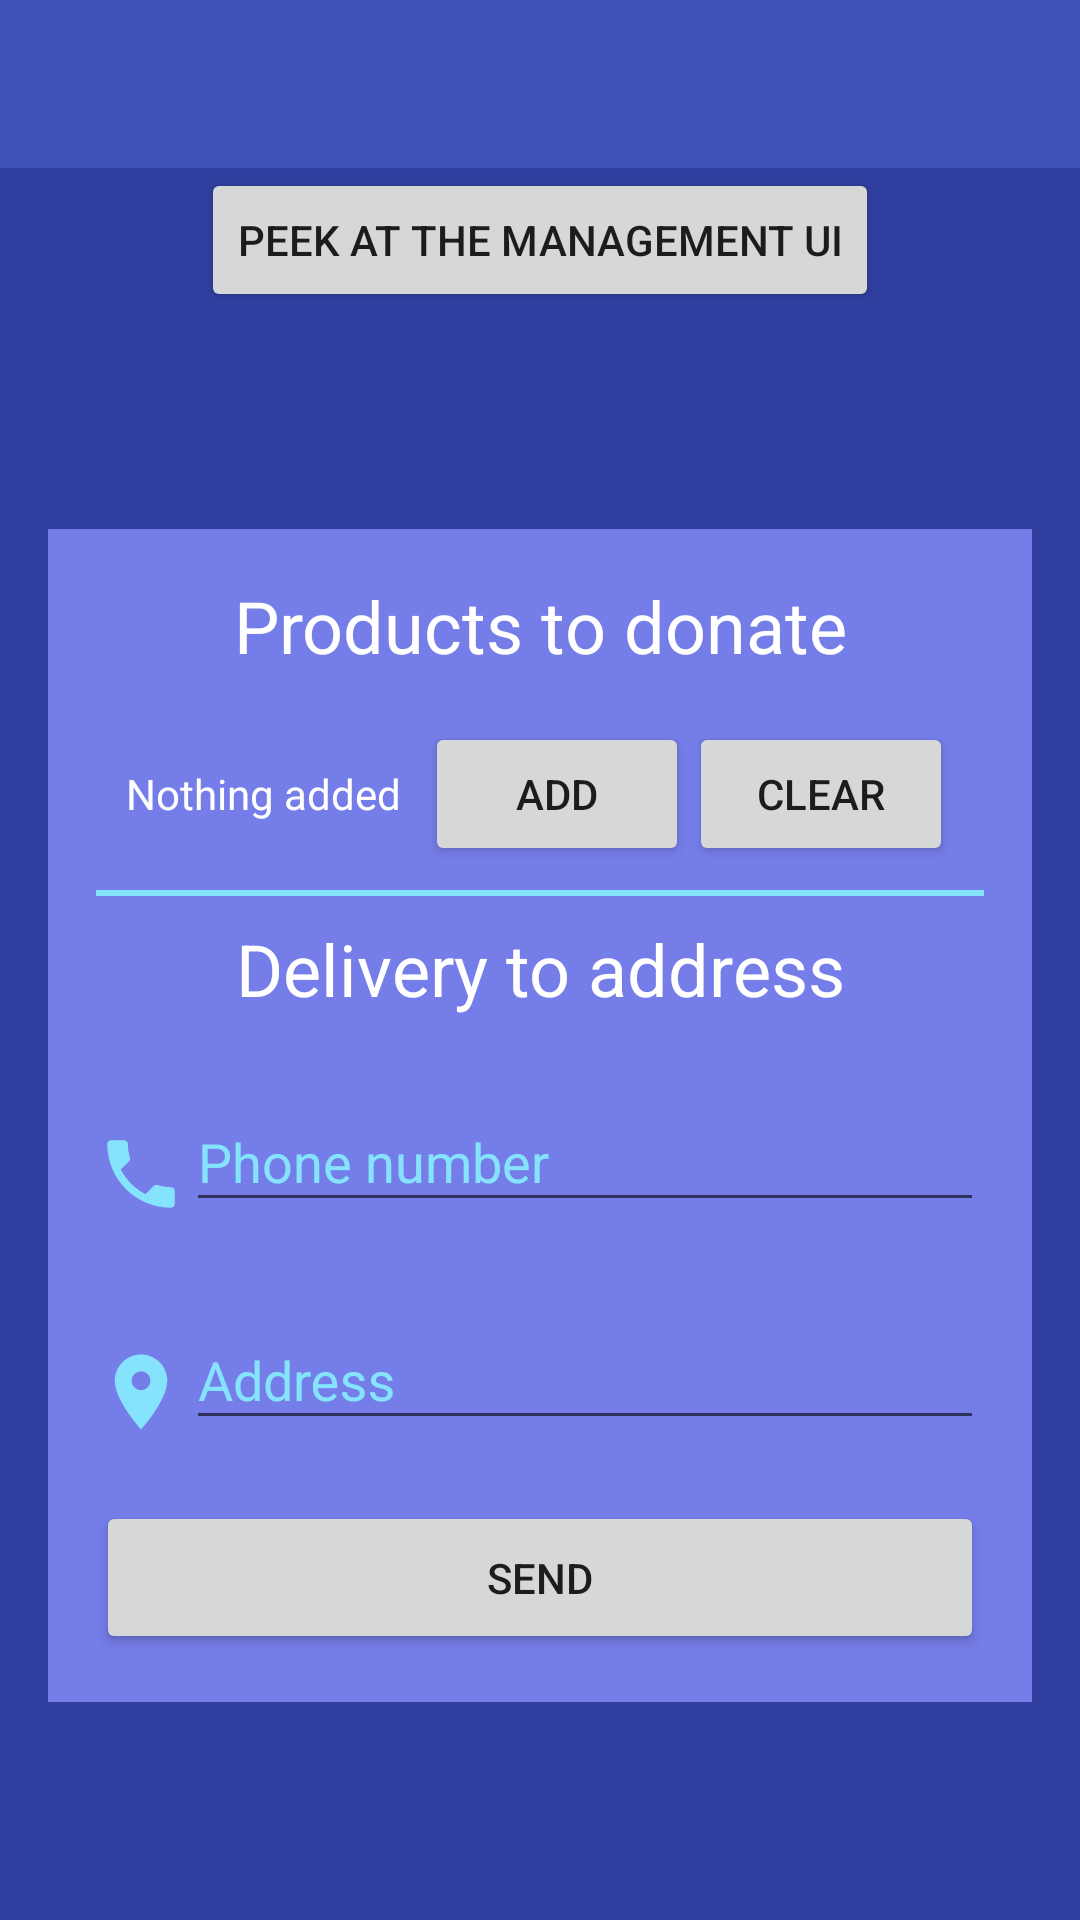

Screen size 1080x1920. Icon name, then its box in pixels as box=[x1, y1, x2, y2]:
location on: box=[114, 1354, 168, 1429]
